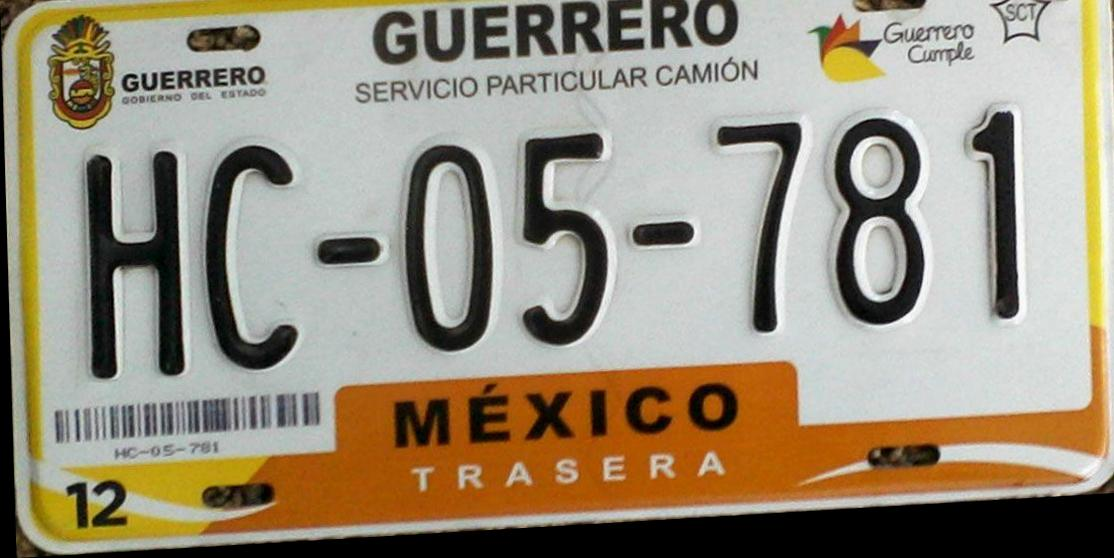License_Plate: (18, 0, 1112, 543)
